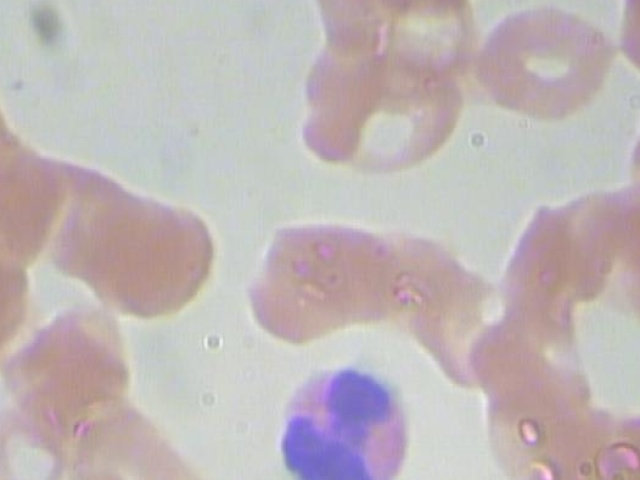RBC: (247, 207, 411, 350), (0, 295, 151, 438), (326, 48, 469, 181), (455, 297, 598, 429), (472, 4, 619, 125), (95, 187, 218, 322), (568, 183, 640, 326), (65, 403, 189, 480), (596, 402, 640, 480), (617, 0, 640, 104)
WBC: (267, 351, 419, 480)
